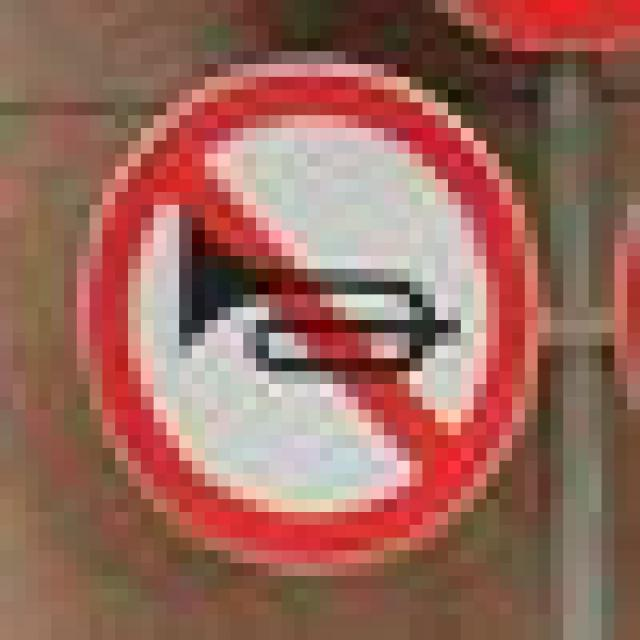HORN_PROHIBITED: (64, 26, 538, 550)
